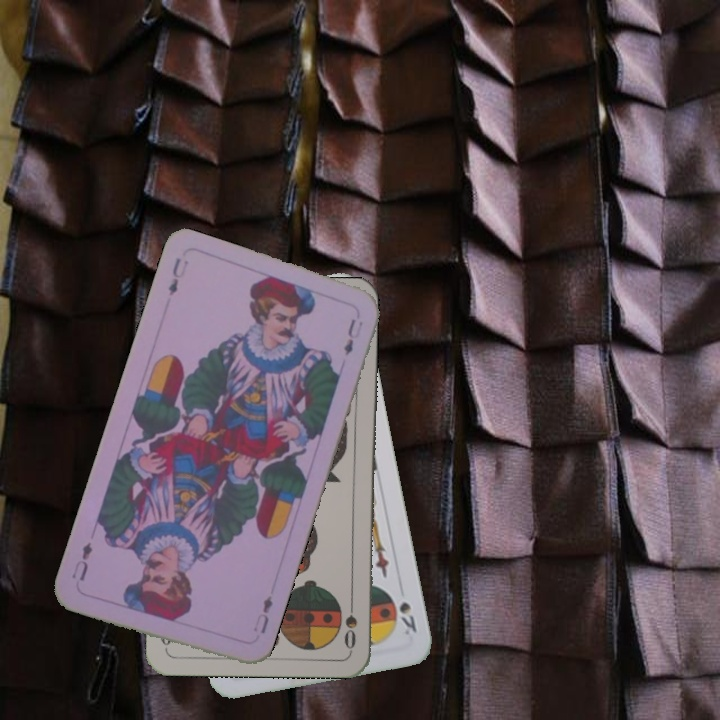EU: (164, 253, 192, 299), (249, 591, 276, 637)
SK: (395, 597, 420, 635)
SO: (340, 593, 360, 652)
